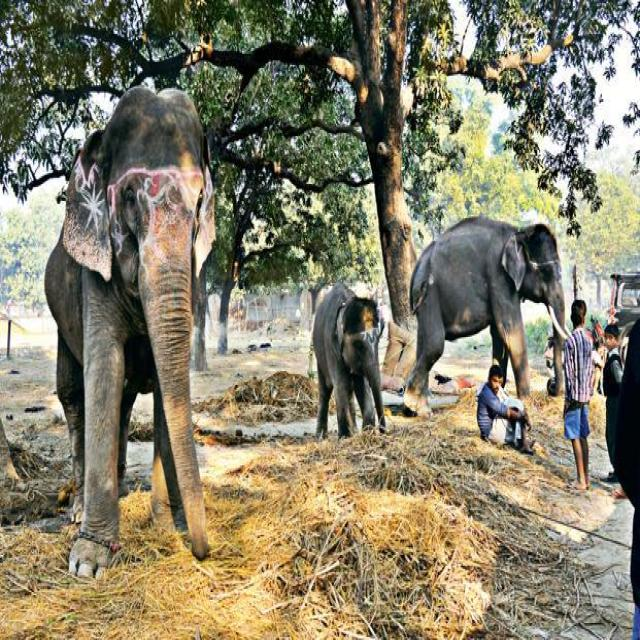Elephant: (45, 73, 218, 576), (406, 210, 576, 420), (302, 275, 390, 446)
